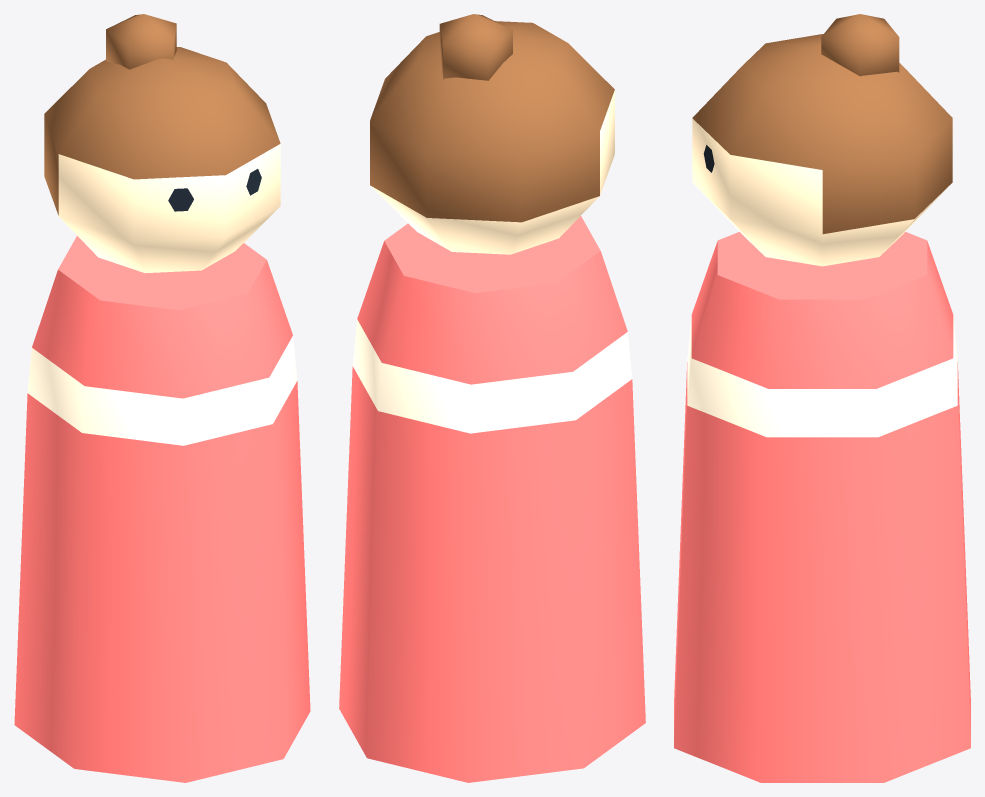
File: block-folk-a.glb
3 views of the same model, side by side, from view 1: azimuth 30°, elevation 25°; view 2: azimuth 150°, elevation 25°; view 3: azimuth 270°, elevation 25° (orthographic). The views are drawn at different scales.
Parts seen in each view (by area): view 1: block-folk-a; view 2: block-folk-a; view 3: block-folk-a.
Part boxes in pixels (x1,y1,x2,y2): block-folk-a: (14,14,310,782); block-folk-a: (339,14,645,782); block-folk-a: (674,14,970,782).
Size of the model in its own units: 0.68 by 1.9 by 0.72.
